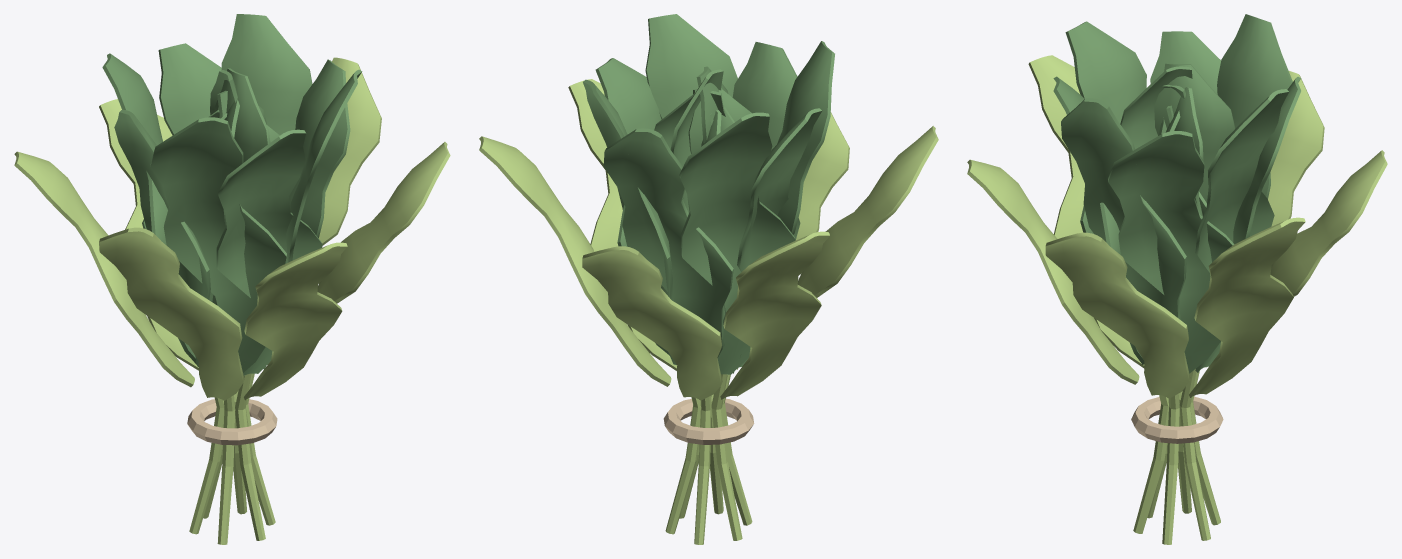
Rendered from fresh-produce-and-groceries-kale-bunch-68c0d4a7__24369.glb.
3 views of the same model, side by side, from view 1: azimuth 30°, elevation 25°; view 2: azimuth 150°, elevation 25°; view 3: azimuth 270°, elevation 25° (orthographic).
Visible parts, largest first — view 1: kale-bunch; view 2: kale-bunch; view 3: kale-bunch.
Part boxes in pixels (<box>): kale-bunch: <box>14,14,450,544</box>; kale-bunch: <box>479,14,938,544</box>; kale-bunch: <box>967,14,1387,544</box>.
Bounding box in the file's own units: 0.2597 × 0.3309 × 0.2684.
